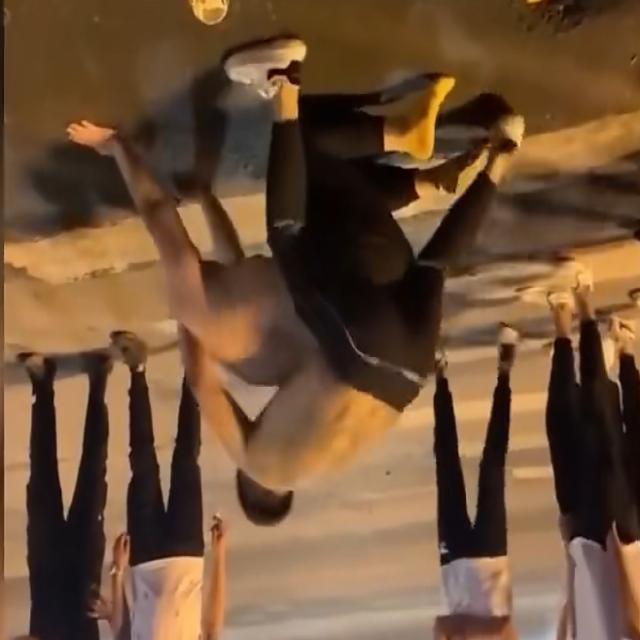fight: (62, 52, 450, 538)
